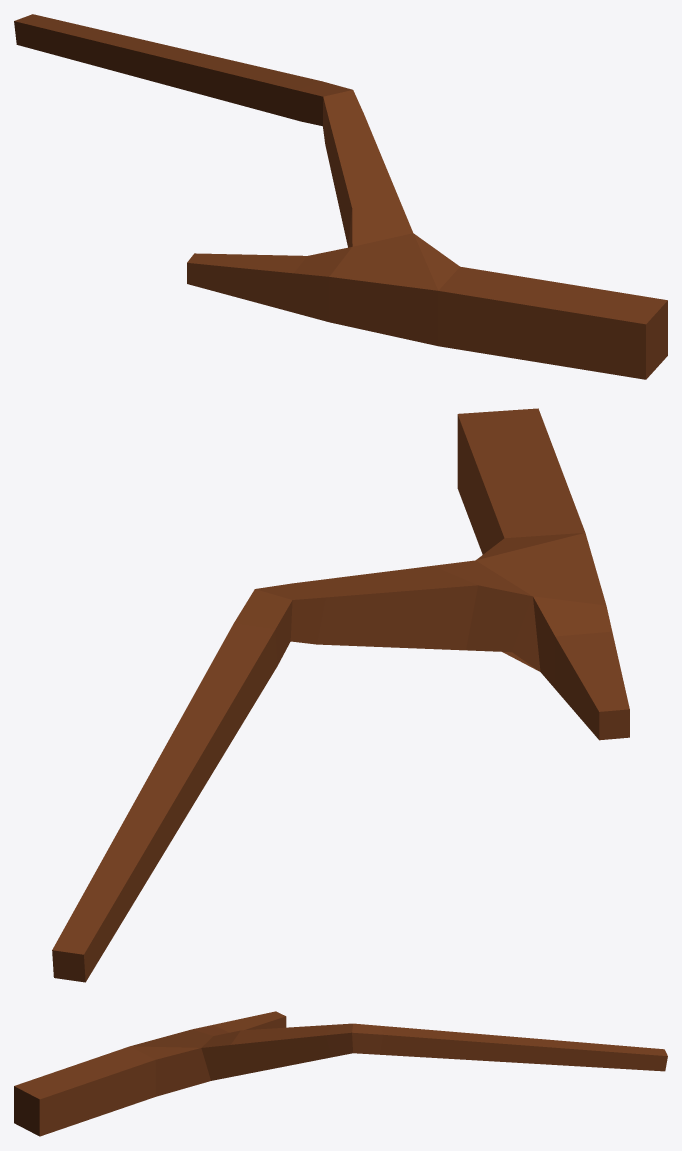
Rendered from stick.fbx.
3 renders of one model, top to bottom at view 1: azimuth 30°, elevation 25°; view 2: azimuth 150°, elevation 25°; view 3: azimuth 270°, elevation 25°, orthographic. The views are drawn at different scales.
Visible parts, largest first — view 1: Cube; view 2: Cube; view 3: Cube.
Part boxes in pixels (bbox=[...]): Cube: bbox=[14, 14, 667, 379]; Cube: bbox=[52, 408, 629, 982]; Cube: bbox=[14, 1011, 667, 1136].
Size of the model in its own units: 288 by 104 by 798.
